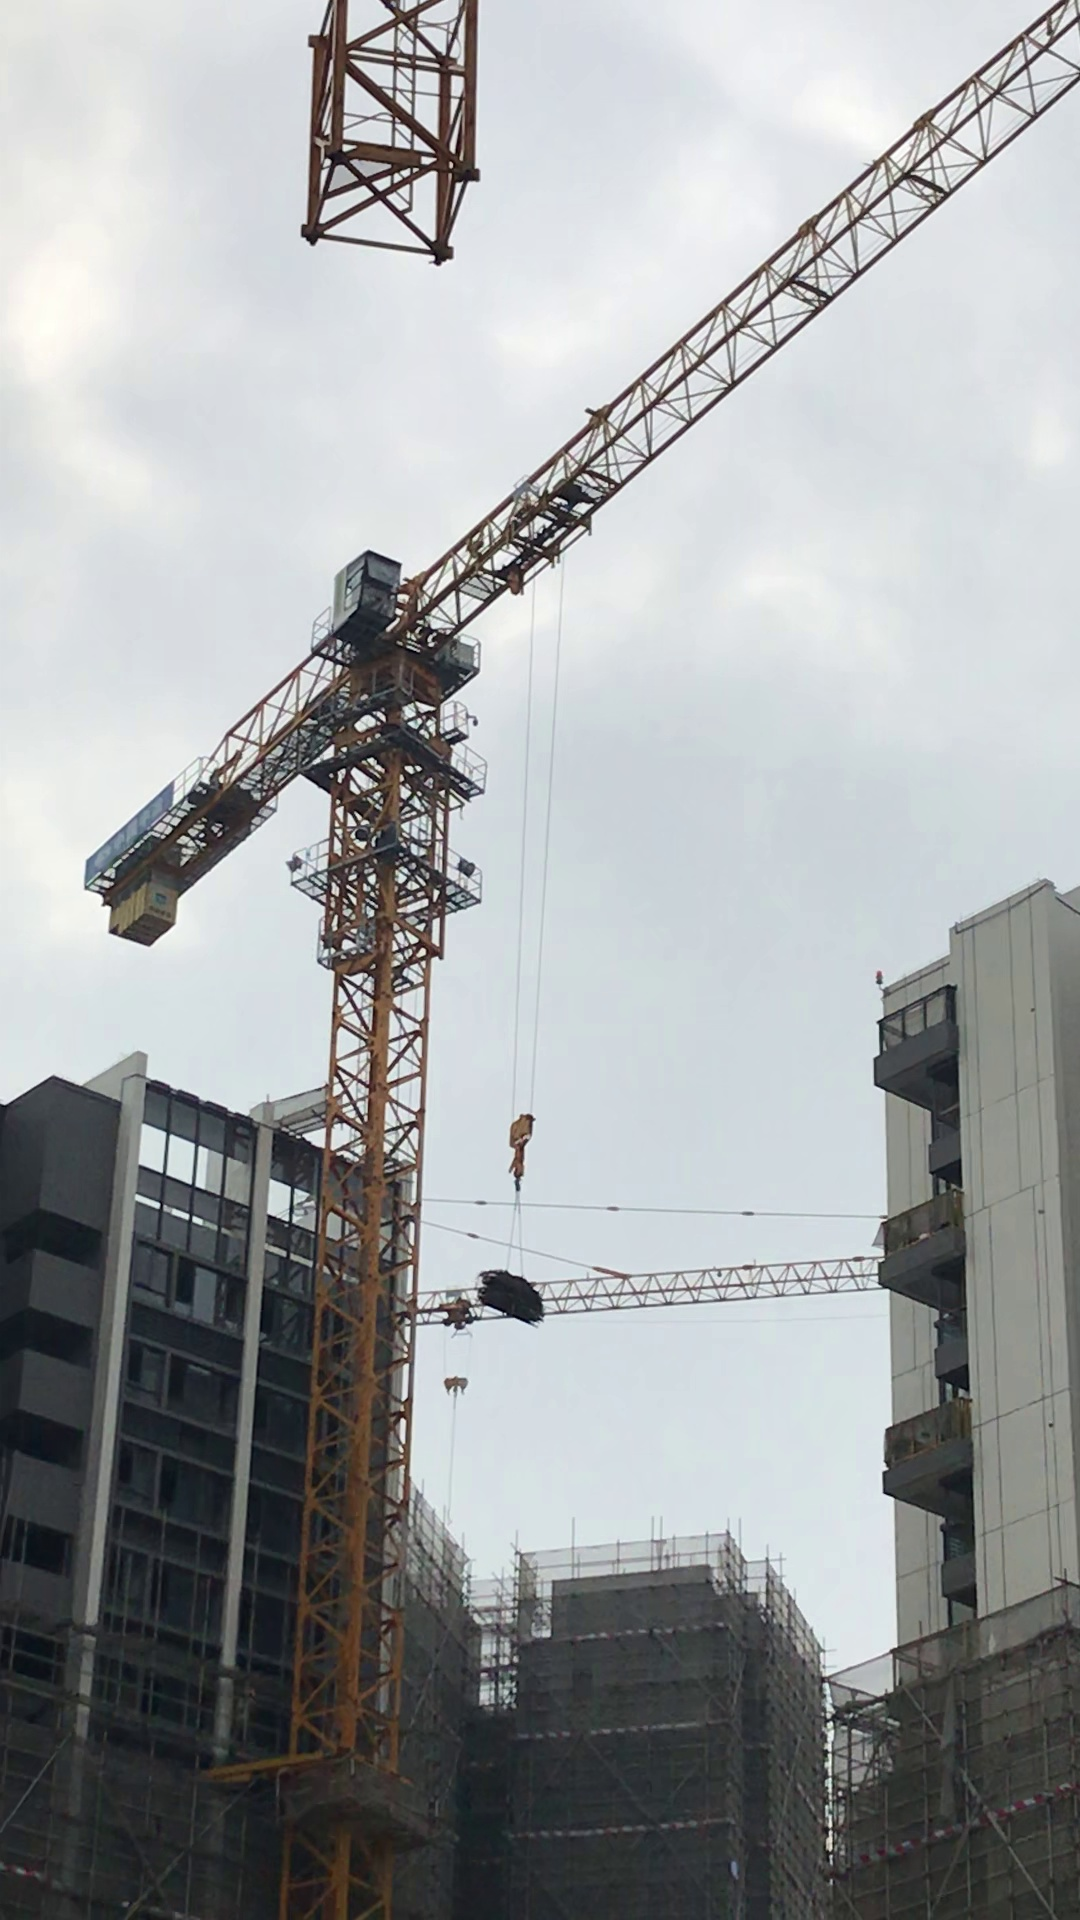board: (472, 1266, 550, 1332)
hook: (506, 1112, 537, 1195), (444, 1375, 469, 1400)
